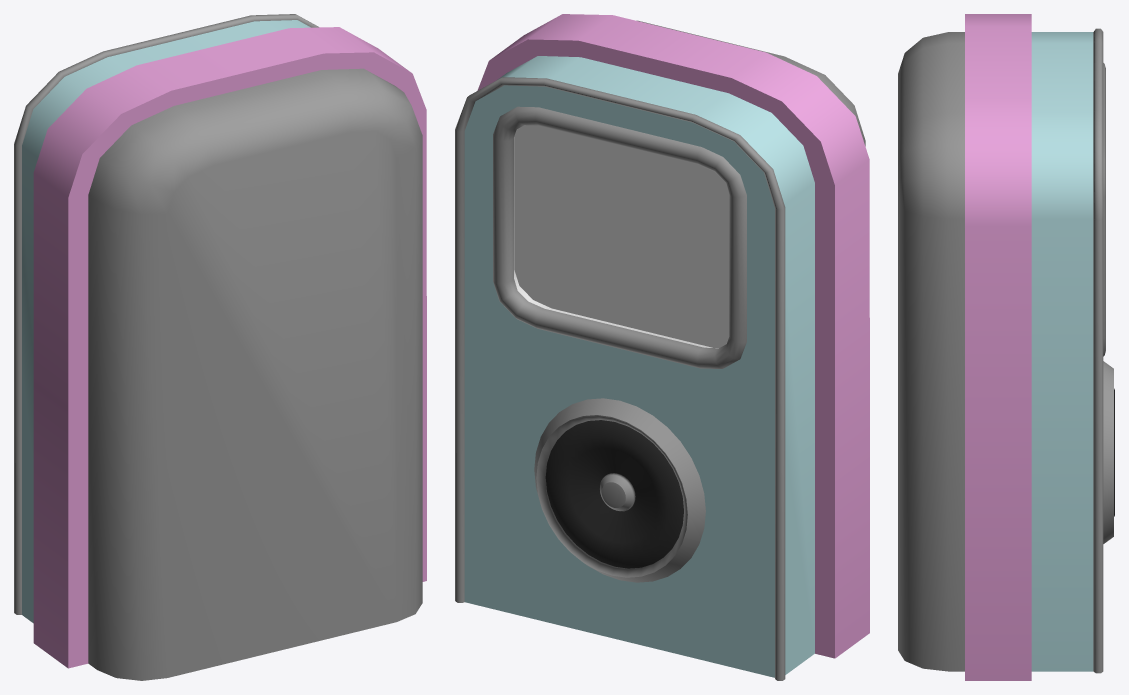
The model's file is checklist_altar.fbx.
The picture shows the model from 3 angles, left to right: view 1: azimuth 30°, elevation 25°; view 2: azimuth 150°, elevation 25°; view 3: azimuth 270°, elevation 25°; orthographic projection. The views are drawn at different scales.
Parts seen in each view (by area): view 1: ChecklistBox; view 2: ChecklistBox; view 3: ChecklistBox.
Boxes of the visible parts, <box> form: ChecklistBox: <box>14,14,426,680</box>; ChecklistBox: <box>455,14,869,680</box>; ChecklistBox: <box>898,14,1114,680</box>.
Bounding box in the file's own units: 3.99 × 2.16 × 5.87.
